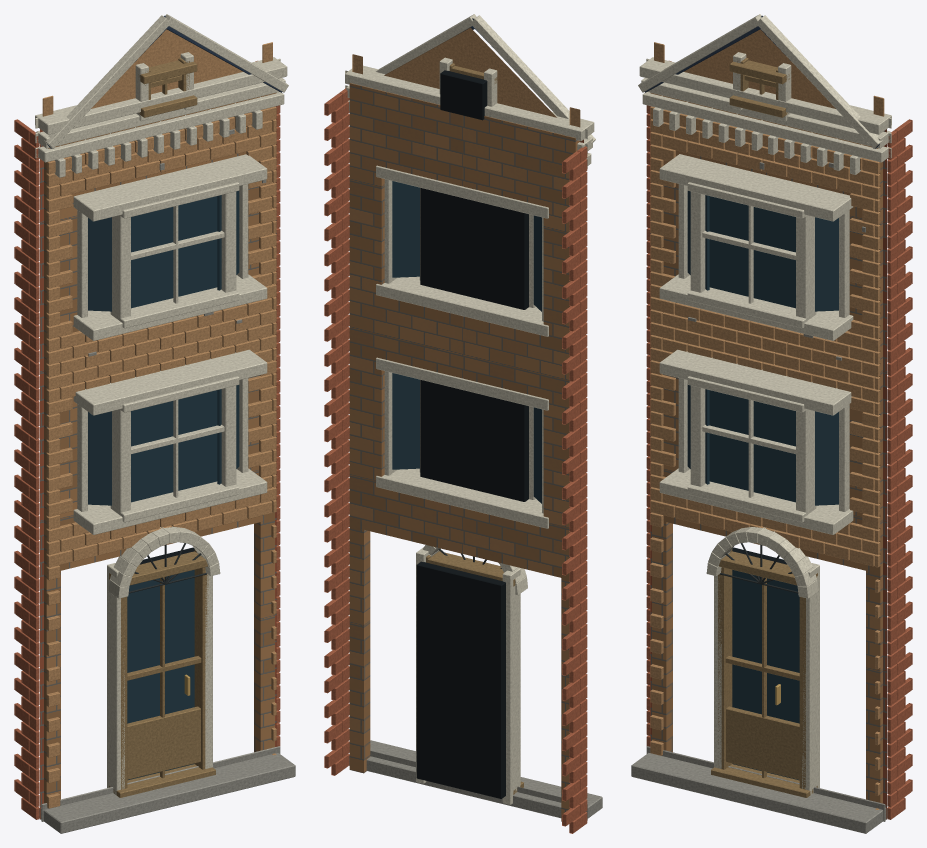
Rendered from VICT24_lod0.glb.
The picture shows the model from 3 angles, left to right: view 1: azimuth 30°, elevation 25°; view 2: azimuth 150°, elevation 25°; view 3: azimuth 330°, elevation 25°; orthographic projection.
Visible parts, largest first — view 1: VICT24_FRONT_LOD0; view 2: VICT24_FRONT_LOD0; view 3: VICT24_FRONT_LOD0.
Part boxes in pixels (x1,y1,x2,y2): VICT24_FRONT_LOD0: (14,14,295,833); VICT24_FRONT_LOD0: (324,14,602,833); VICT24_FRONT_LOD0: (631,14,912,833).
Bounding box in the file's own units: 3.44 × 10.46 × 1.11.
17 materials, 14 textured.
